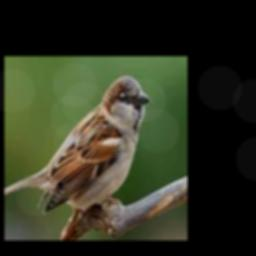Sparrow: (4, 75, 150, 214)
